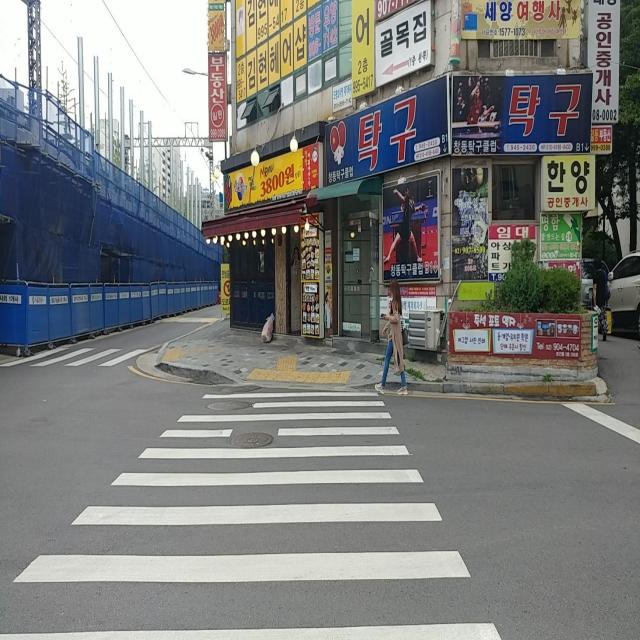횡단보도: (0, 385, 504, 640)
